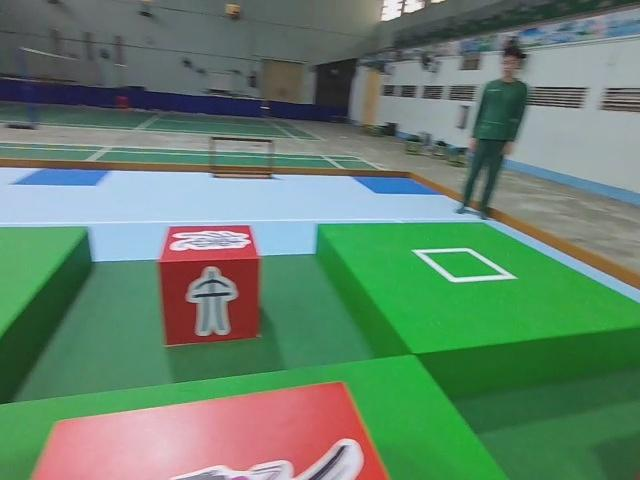R2 Fake: (158, 221, 262, 347)
